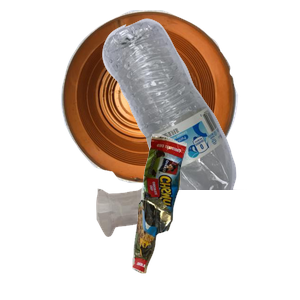glass: (94, 184, 253, 300)
metal: (58, 10, 289, 186)
plastic: (100, 16, 300, 196)
trash: (130, 131, 300, 300)
